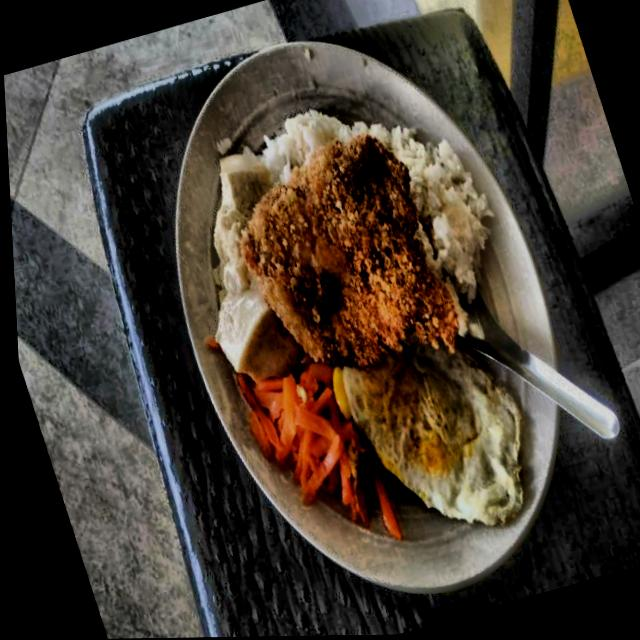Food: (215, 122, 468, 403), (328, 323, 544, 551), (228, 345, 395, 563), (394, 115, 499, 291)
